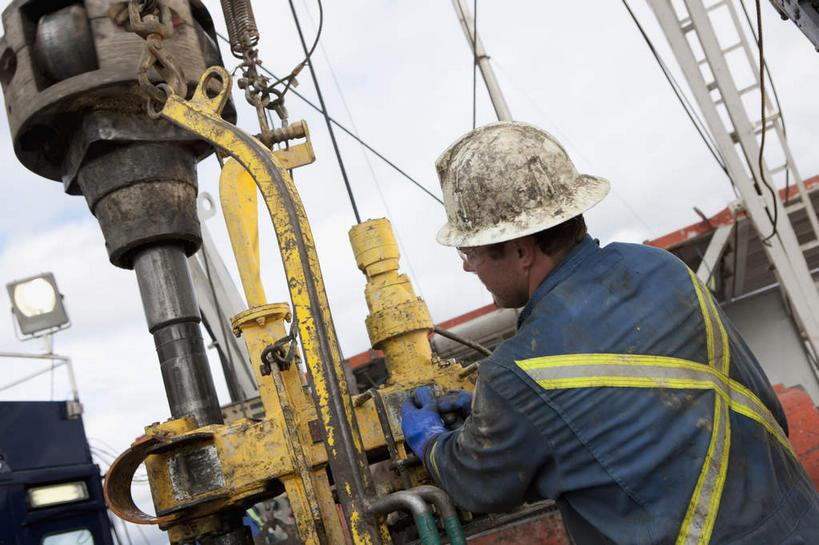helmet: (431, 115, 613, 251)
